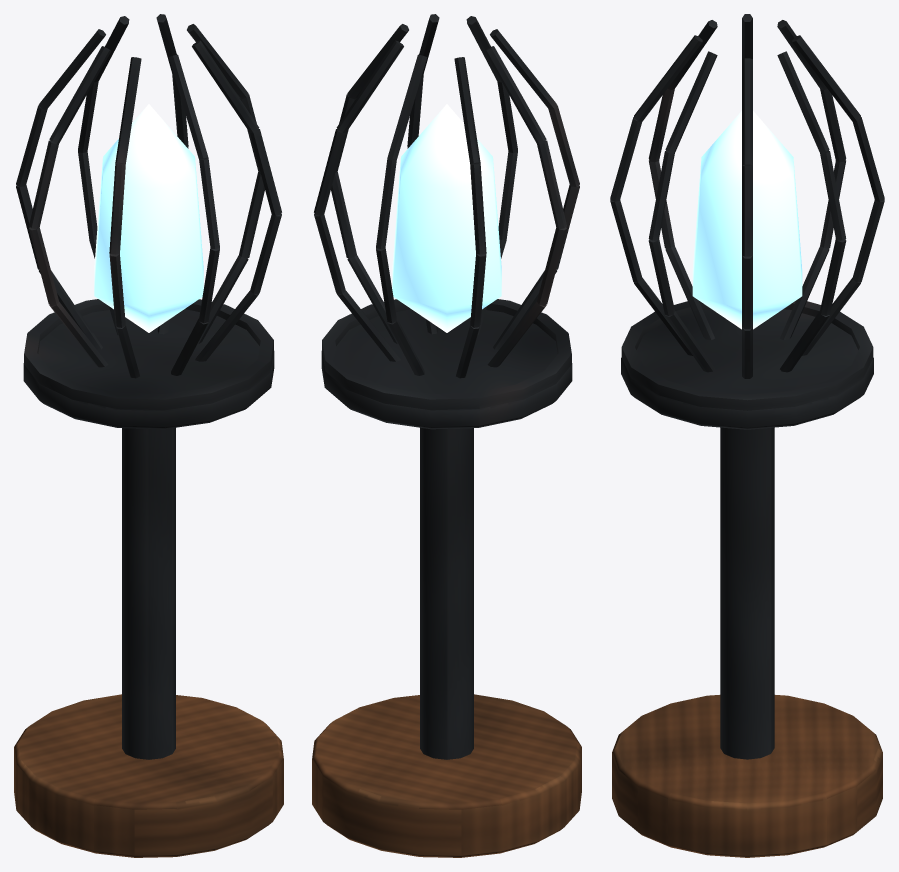
The model's file is Furn_Dress_MagicFan.fbx.
3 renders of one model, left to right at view 1: azimuth 30°, elevation 25°; view 2: azimuth 150°, elevation 25°; view 3: azimuth 270°, elevation 25°, orthographic.
Parts seen in each view (by area): view 1: Furn_Dress_MagicFan; view 2: Furn_Dress_MagicFan; view 3: Furn_Dress_MagicFan.
Boxes of the visible parts, <box> form: Furn_Dress_MagicFan: <box>14,14,283,857</box>; Furn_Dress_MagicFan: <box>312,14,581,857</box>; Furn_Dress_MagicFan: <box>610,14,884,857</box>.
Size of the model in its own units: 0.4551 by 1.4 by 0.4551.
3 materials, 2 textured.
